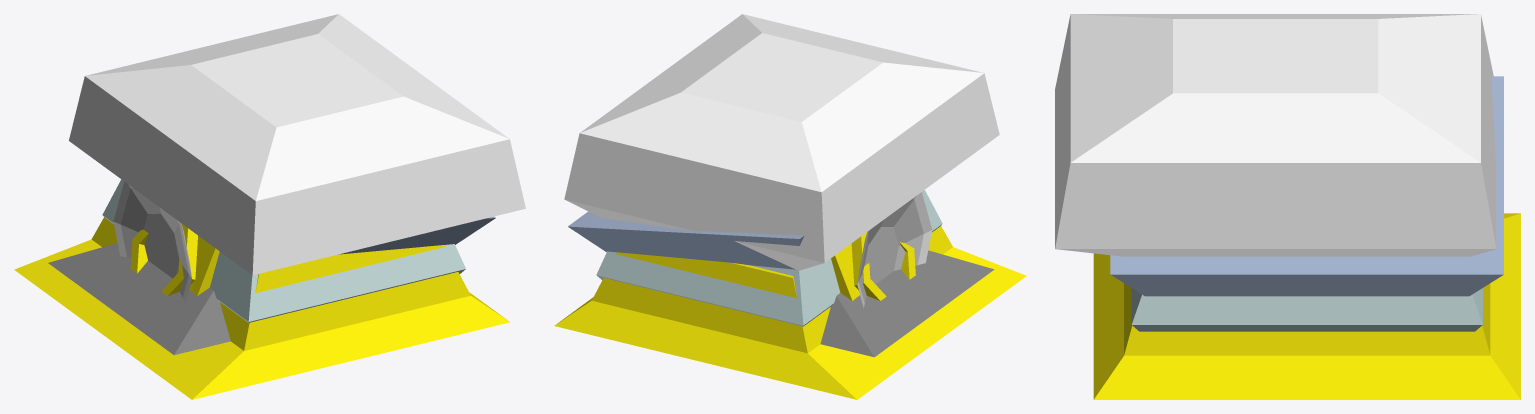
The model's file is MutantHats.fbx.
The picture shows the model from 3 angles, left to right: view 1: azimuth 30°, elevation 25°; view 2: azimuth 150°, elevation 25°; view 3: azimuth 270°, elevation 25°; orthographic projection. The views are drawn at different scales.
Visible parts, largest first — view 1: Cook, Builder, Doctor, Police; view 2: Cook, Builder, Police, Doctor; view 3: Cook, Builder, Police, Doctor.
Part boxes in pixels (<box>): Cook: <box>69,14,525,275</box>; Builder: <box>14,217,509,399</box>; Doctor: <box>102,179,465,322</box>; Police: <box>48,216,495,355</box>; Cook: <box>564,14,999,270</box>; Builder: <box>554,226,1026,399</box>; Police: <box>568,211,994,357</box>; Doctor: <box>596,190,942,326</box>; Cook: <box>1055,14,1496,256</box>; Builder: <box>1093,213,1520,399</box>; Police: <box>1110,76,1503,296</box>; Doctor: <box>1131,288,1482,331</box>.
Size of the model in its own units: 0.2802 by 0.1845 by 0.2957.
